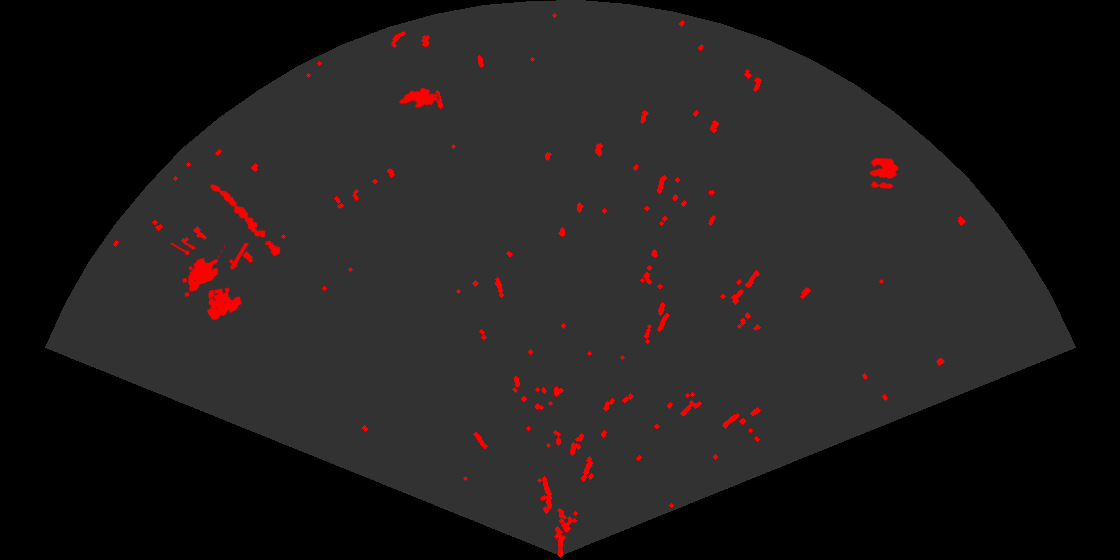AUV: (397, 86, 440, 110)
ball: (868, 156, 900, 190)
cage: (168, 243, 250, 322)
chain: (209, 183, 282, 258)
